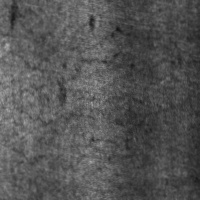crazing: (17, 26, 175, 164)
